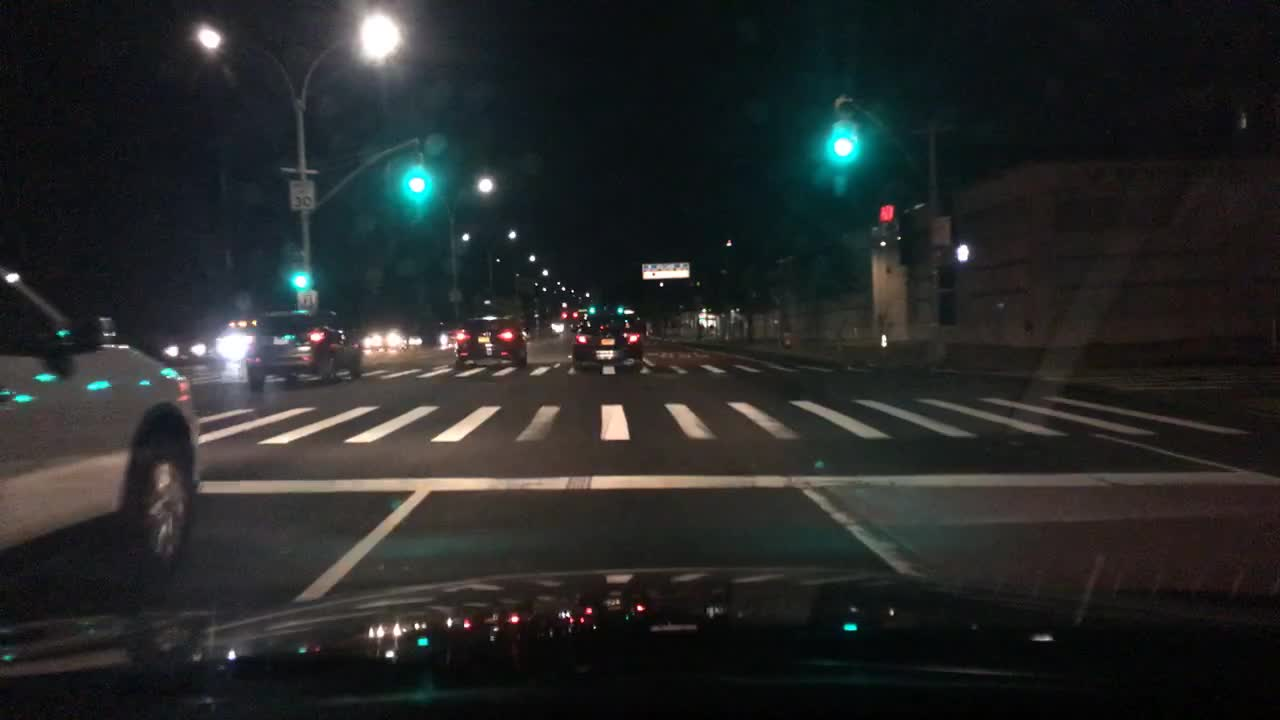car: (0, 262, 201, 590), (570, 313, 644, 368), (452, 314, 529, 366), (157, 327, 217, 360), (212, 319, 256, 362), (368, 326, 402, 351), (438, 320, 461, 349), (570, 322, 582, 332)
traffic light: (828, 98, 856, 164), (403, 169, 429, 198), (291, 271, 309, 288), (879, 205, 894, 219), (615, 305, 623, 313), (588, 305, 596, 313), (572, 311, 579, 318), (559, 311, 566, 318)
traffic sign: (641, 261, 689, 280), (288, 179, 315, 209), (932, 216, 952, 245), (279, 165, 319, 175), (296, 289, 317, 306)
